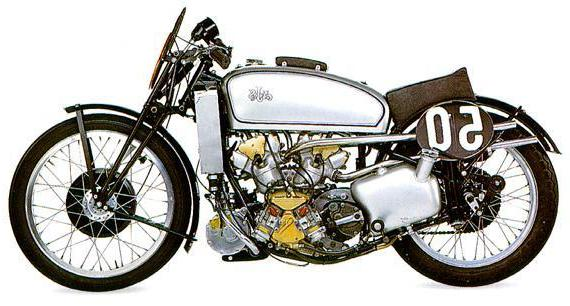motorcycle: (1, 5, 567, 298)
